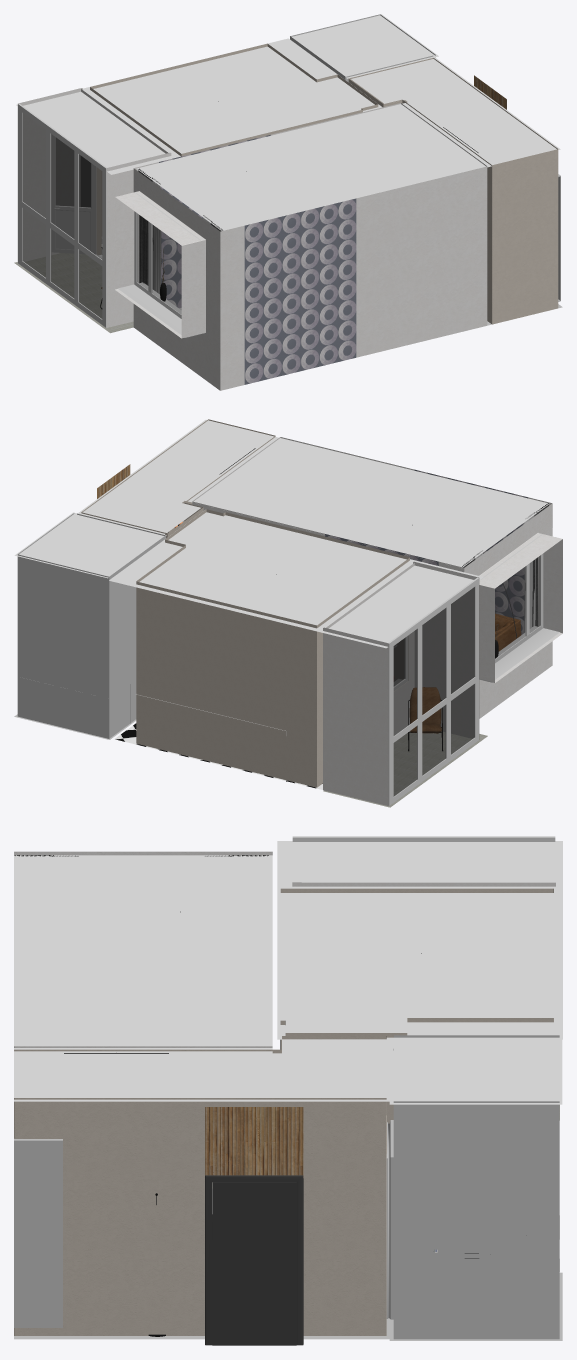
Rendered from Interior.fbx.
3 renders of one model, top to bottom at view 1: azimuth 30°, elevation 25°; view 2: azimuth 150°, elevation 25°; view 3: azimuth 270°, elevation 25°, orthographic. The views are drawn at different scales.
Visible parts, largest first — view 1: wall_inner008, Kitchen, Bedroom, Hallway, wall_inner079, wall_inner082, Toilet, wall_inner009; view 2: Kitchen, wall_inner009, Bedroom, wall_inner077, Hallway, wall_inner008, Toilet, wall_inner082, wall_inner079, wall_inner024, wall_inner094; view 3: Hallway, Bedroom, Kitchen, wall_inner078, cgaxis_door_02_045, Toilet, wall_inner082, wall_inner009, wall_inner008.
Boxes of the visible parts, x1=… form: wall_inner008: x1=115, y1=103, x2=487, y2=390; Kitchen: x1=14, y1=38, x2=382, y2=333; Bedroom: x1=118, y1=102, x2=493, y2=337; Hallway: x1=348, y1=57, x2=562, y2=324; wall_inner079: x1=159, y1=135, x2=356, y2=384; wall_inner082: x1=16, y1=88, x2=177, y2=174; Toilet: x1=290, y1=14, x2=438, y2=79; wall_inner009: x1=90, y1=43, x2=378, y2=255; Kitchen: x1=109, y1=510, x2=487, y2=807; wall_inner009: x1=136, y1=509, x2=409, y2=787; Bedroom: x1=185, y1=436, x2=560, y2=682; wall_inner077: x1=17, y1=513, x2=165, y2=738; Hallway: x1=78, y1=419, x2=275, y2=538; wall_inner008: x1=192, y1=437, x2=562, y2=718; Toilet: x1=14, y1=512, x2=166, y2=739; wall_inner082: x1=318, y1=560, x2=483, y2=648; wall_inner079: x1=325, y1=469, x2=527, y2=634; wall_inner024: x1=495, y1=614, x2=521, y2=651; wall_inner094: x1=114, y1=723, x2=322, y2=789; Hallway: x1=14, y1=1036, x2=393, y2=1345; Bedroom: x1=14, y1=855, x2=272, y2=1053; Kitchen: x1=277, y1=836, x2=562, y2=1120; wall_inner078: x1=393, y1=1101, x2=559, y2=1339; cgaxis_door_02_045: x1=212, y1=1182, x2=296, y2=1345; Toilet: x1=389, y1=1035, x2=562, y2=1340; wall_inner082: x1=277, y1=841, x2=562, y2=890; wall_inner009: x1=280, y1=888, x2=553, y2=1123; wall_inner008: x1=14, y1=851, x2=272, y2=1047.
Size of the model in its own units: 7.41 by 3.04 by 6.27.
